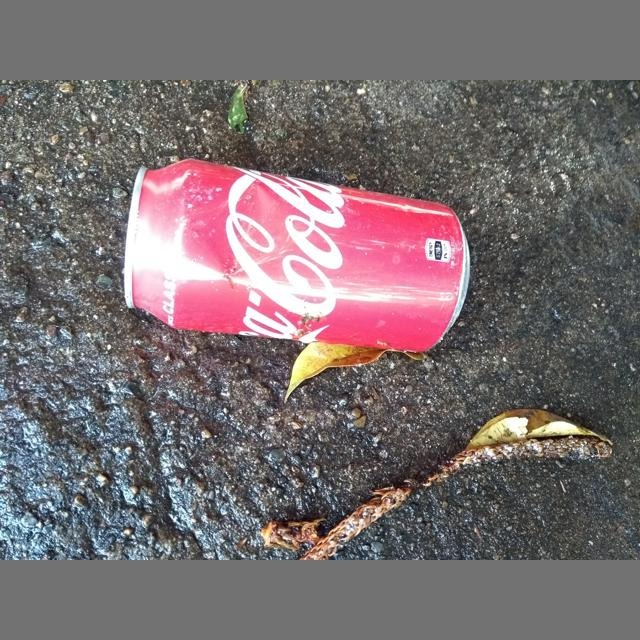litter: (124, 159, 470, 353)
